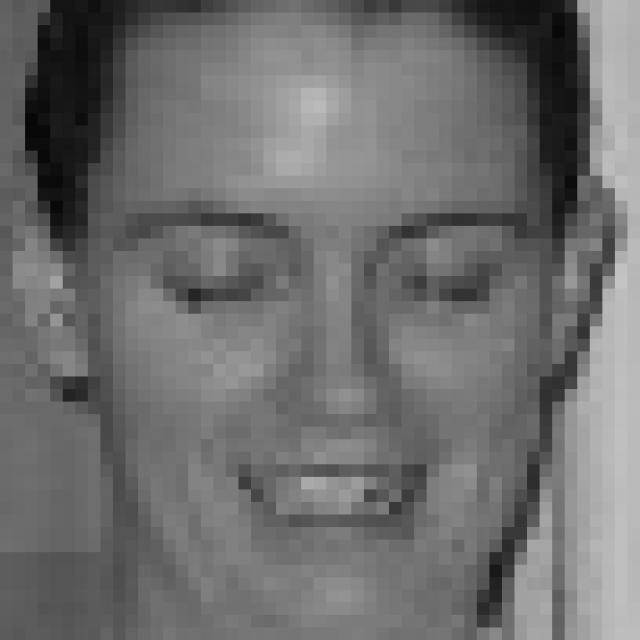real: (85, 3, 553, 638), (144, 223, 506, 332)
